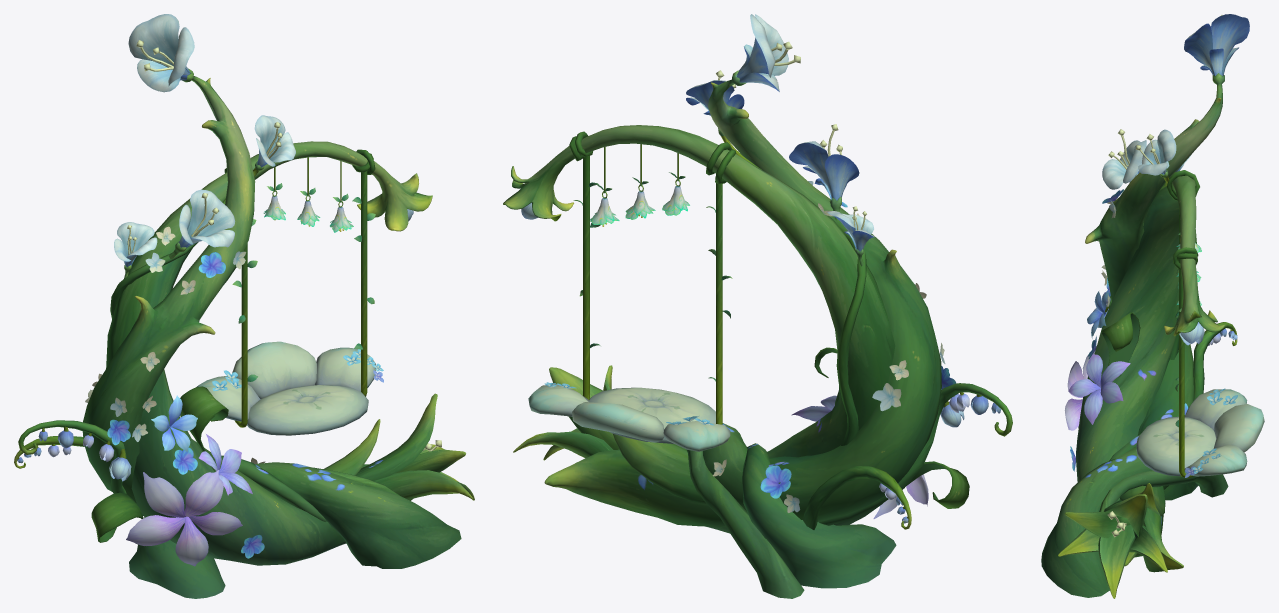
Rendered from Homeworld_Exterior_Xm_Decoration_Prop_Swing_01_Lod0.fbx.
3 views of the same model, side by side, from view 1: azimuth 30°, elevation 25°; view 2: azimuth 150°, elevation 25°; view 3: azimuth 270°, elevation 25° (orthographic). The views are drawn at different scales.
Parts seen in each view (by area): view 1: Homeworld_Exterior_Xm_Decoration_Prop_Swing_01_Lod0, Homeworld_Exterior_Xm_Decoration_Prop_Swing_02_Vo; view 2: Homeworld_Exterior_Xm_Decoration_Prop_Swing_01_Lod0, Homeworld_Exterior_Xm_Decoration_Prop_Swing_02_Vo; view 3: Homeworld_Exterior_Xm_Decoration_Prop_Swing_01_Lod0, Homeworld_Exterior_Xm_Decoration_Prop_Swing_02_Vo.
Boxes of the visible parts, <box> form: Homeworld_Exterior_Xm_Decoration_Prop_Swing_01_Lod0: <box>14,14,474,598</box>; Homeworld_Exterior_Xm_Decoration_Prop_Swing_02_Vo: <box>85,226,383,558</box>; Homeworld_Exterior_Xm_Decoration_Prop_Swing_01_Lod0: <box>503,14,1012,598</box>; Homeworld_Exterior_Xm_Decoration_Prop_Swing_02_Vo: <box>544,181,956,512</box>; Homeworld_Exterior_Xm_Decoration_Prop_Swing_01_Lod0: <box>1041,14,1264,598</box>; Homeworld_Exterior_Xm_Decoration_Prop_Swing_02_Vo: <box>1070,189,1237,477</box>.
Size of the model in its own units: 5.91 by 6.69 by 2.77.
